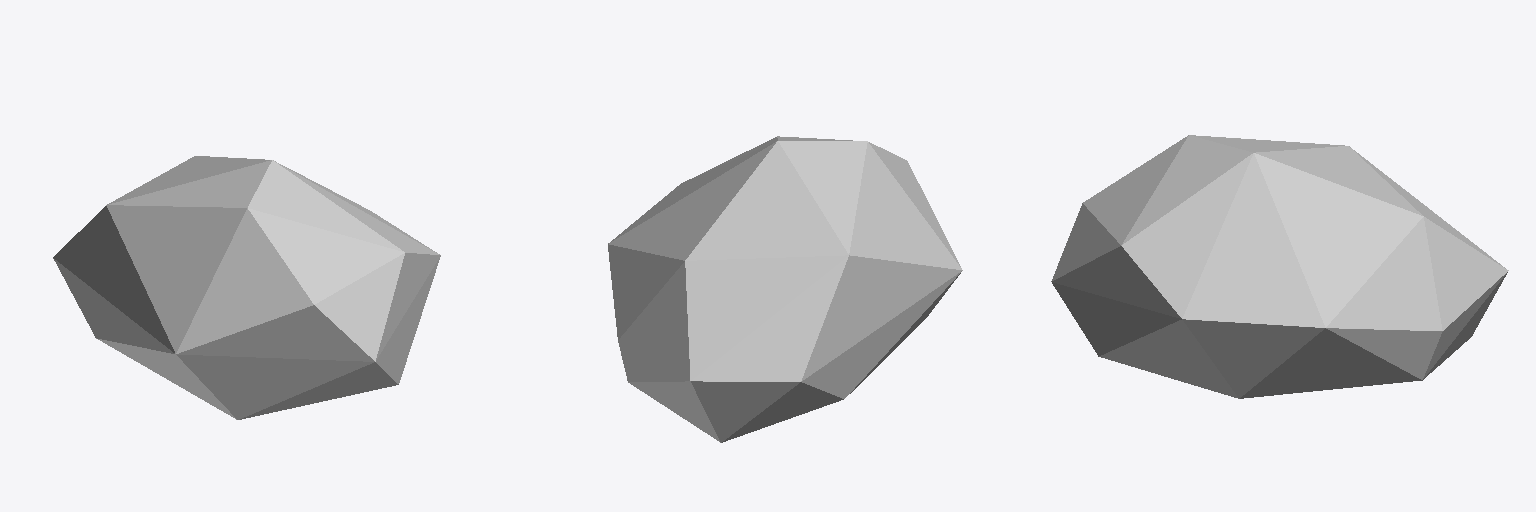
File: Rock2.obj
3 renders of one model, left to right at view 1: azimuth 30°, elevation 25°; view 2: azimuth 150°, elevation 25°; view 3: azimuth 270°, elevation 25°, orthographic.
Parts seen in each view (by area): view 1: Rock2; view 2: Rock2; view 3: Rock2.
Boxes of the visible parts, box(x1,y1,x2,y2) form: Rock2: box(53, 156, 440, 419); Rock2: box(608, 136, 962, 442); Rock2: box(1051, 135, 1508, 398).
Size of the model in its own units: 1.42 by 1.03 by 2.04.